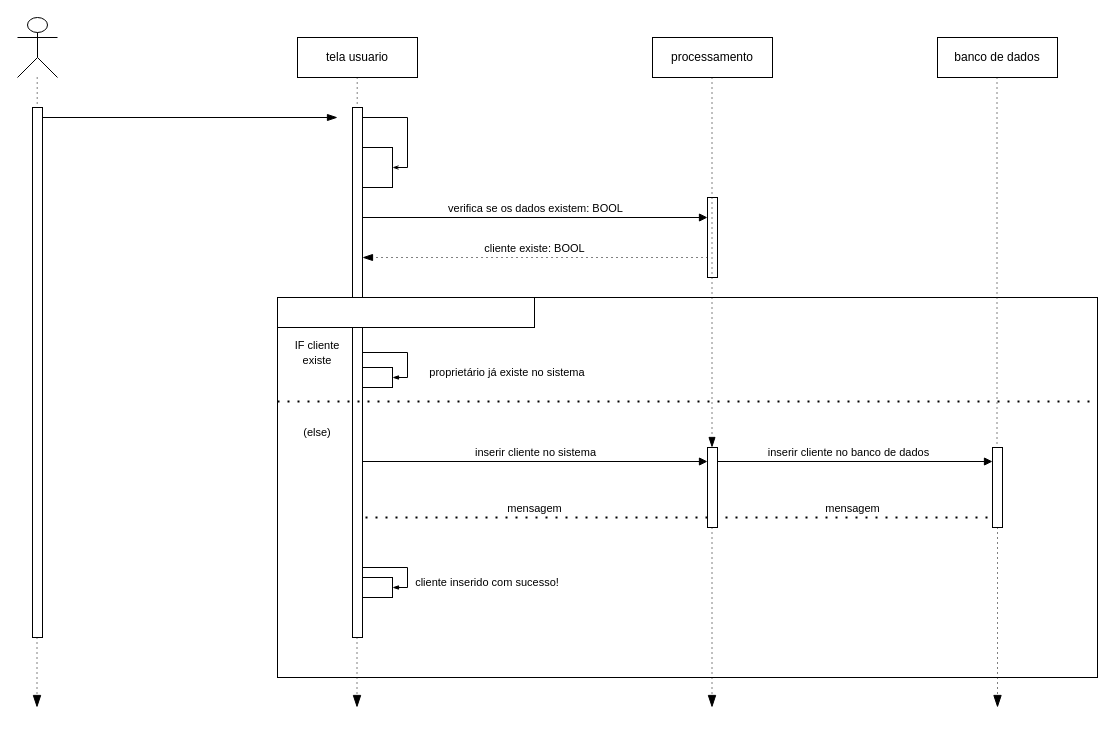
Image size: 1116x737. Some labels were removed from this diagram. The shapes that lost their labels are listed below. From the top down, each one's centre as x and y in pixels, then its label:
At pixel 37 47: "Usuário".
At pixel 405 312: "verificação critica se o cliente já existe".
